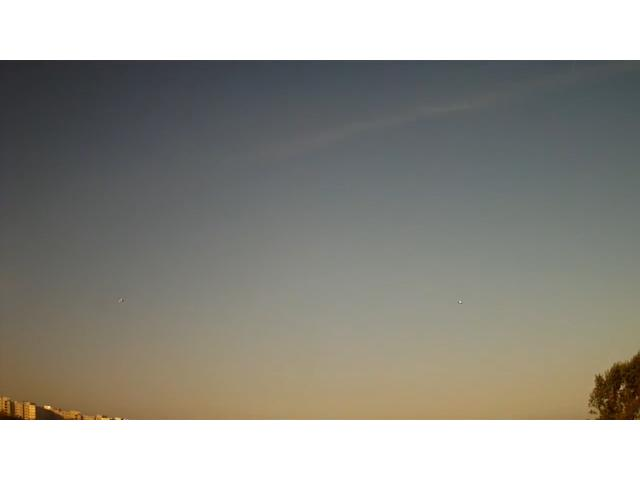Anti-Drone: (454, 296, 470, 314), (110, 296, 130, 308)
